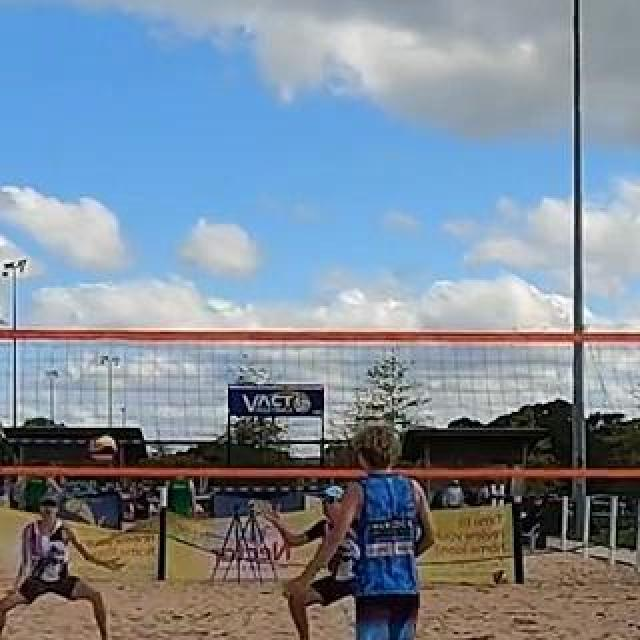volleyball: (89, 433, 117, 465)
